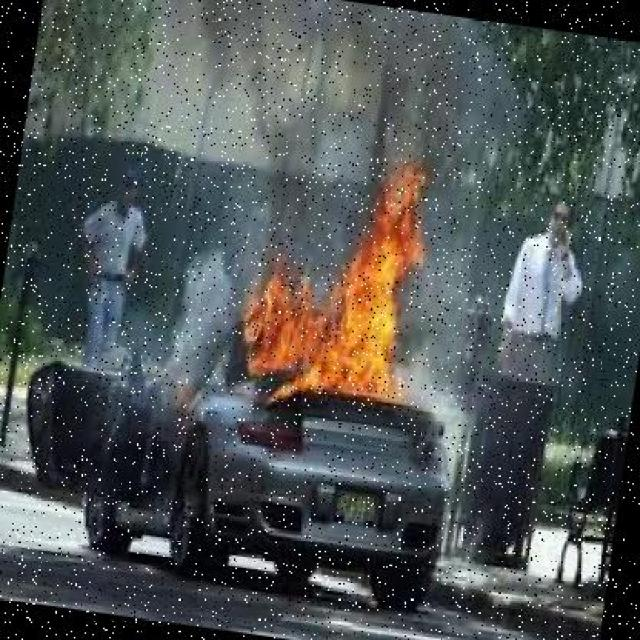fire: (235, 143, 451, 414)
